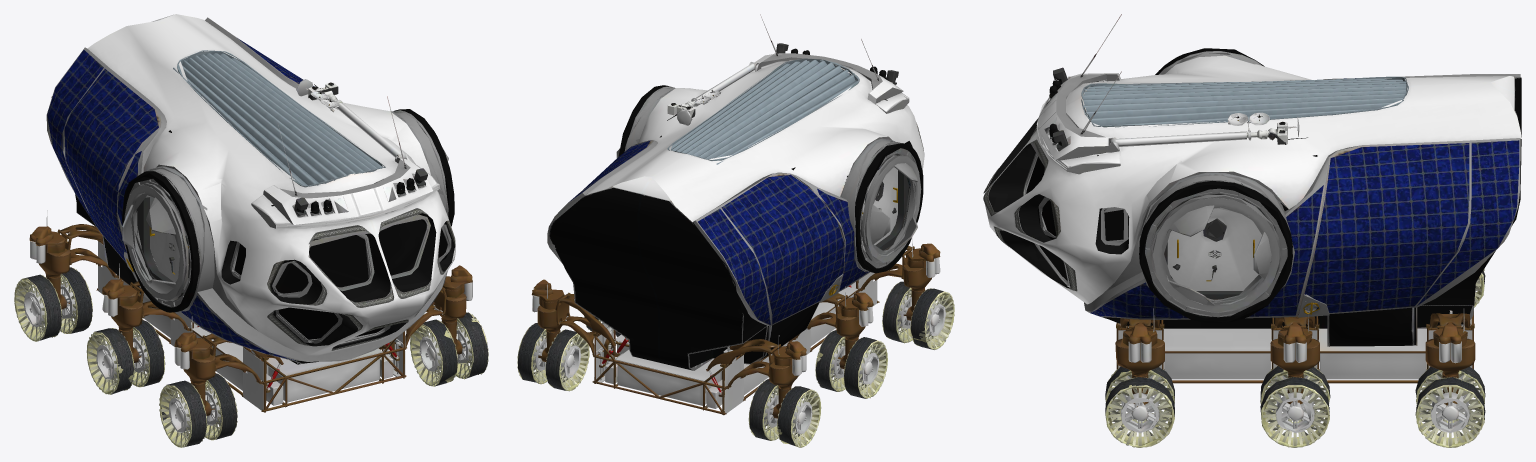
Rendered from rover_sev.glb.
3 views of the same model, side by side, from view 1: azimuth 30°, elevation 25°; view 2: azimuth 150°, elevation 25°; view 3: azimuth 270°, elevation 25° (orthographic). The views are drawn at different scales.
Parts seen in each view (by area): view 1: MMSEV; view 2: MMSEV; view 3: MMSEV.
Part boxes in pixels (x1,y1,x2,y2): MMSEV: (14,14,488,447); MMSEV: (517,14,954,447); MMSEV: (983,14,1521,447).
Size of the model in its own units: 4.04 by 3.97 by 5.9.
1 material, 1 textured.
